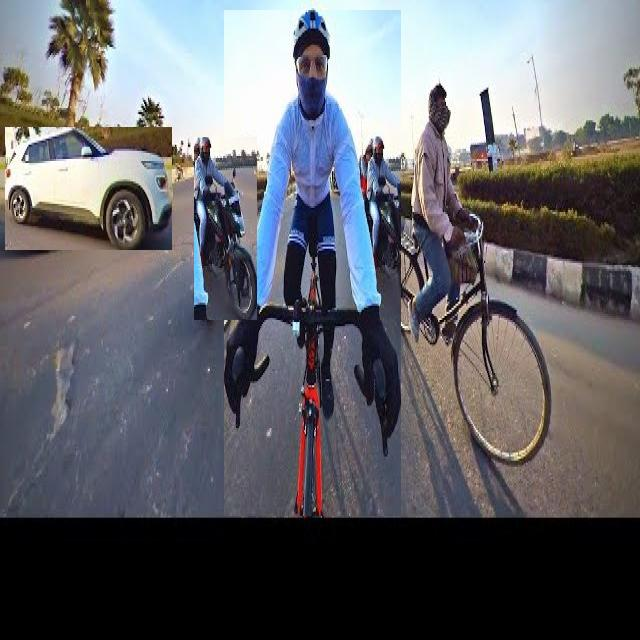bicycle: (224, 10, 401, 516), (386, 84, 551, 462)
car: (5, 127, 172, 250)
motorcycle: (195, 137, 257, 320)
